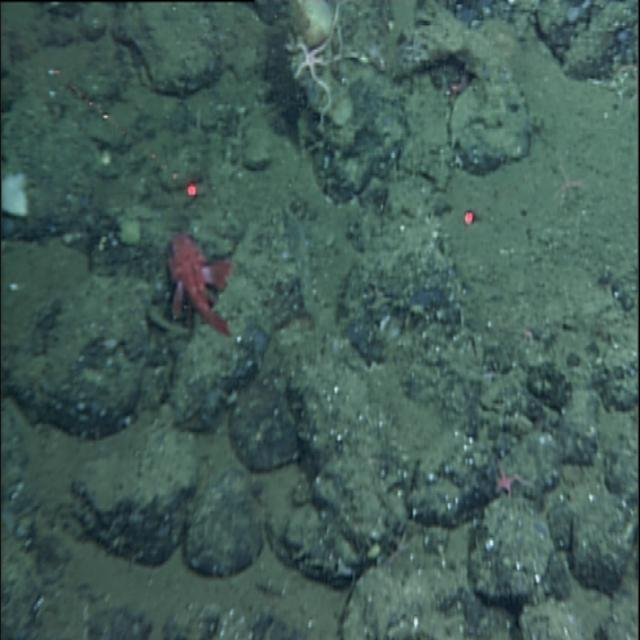Brittle Star: (285, 23, 353, 128), (488, 458, 535, 507), (551, 160, 588, 206)
Not Brittle Star: (161, 227, 237, 345)
